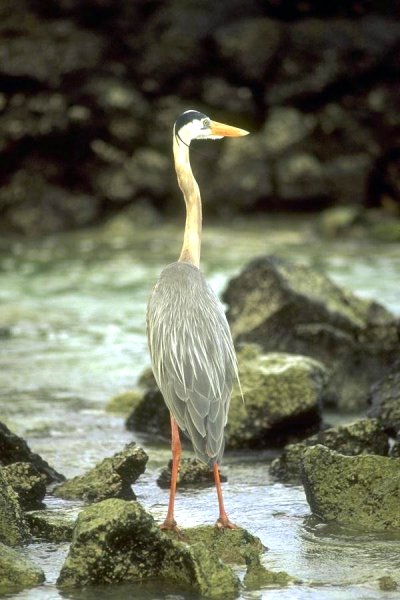heron: (145, 103, 252, 542)
